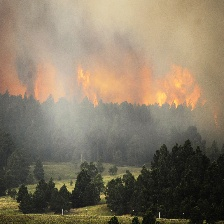fire: (146, 64, 199, 109), (76, 65, 100, 106)
smoke: (2, 1, 224, 153)
